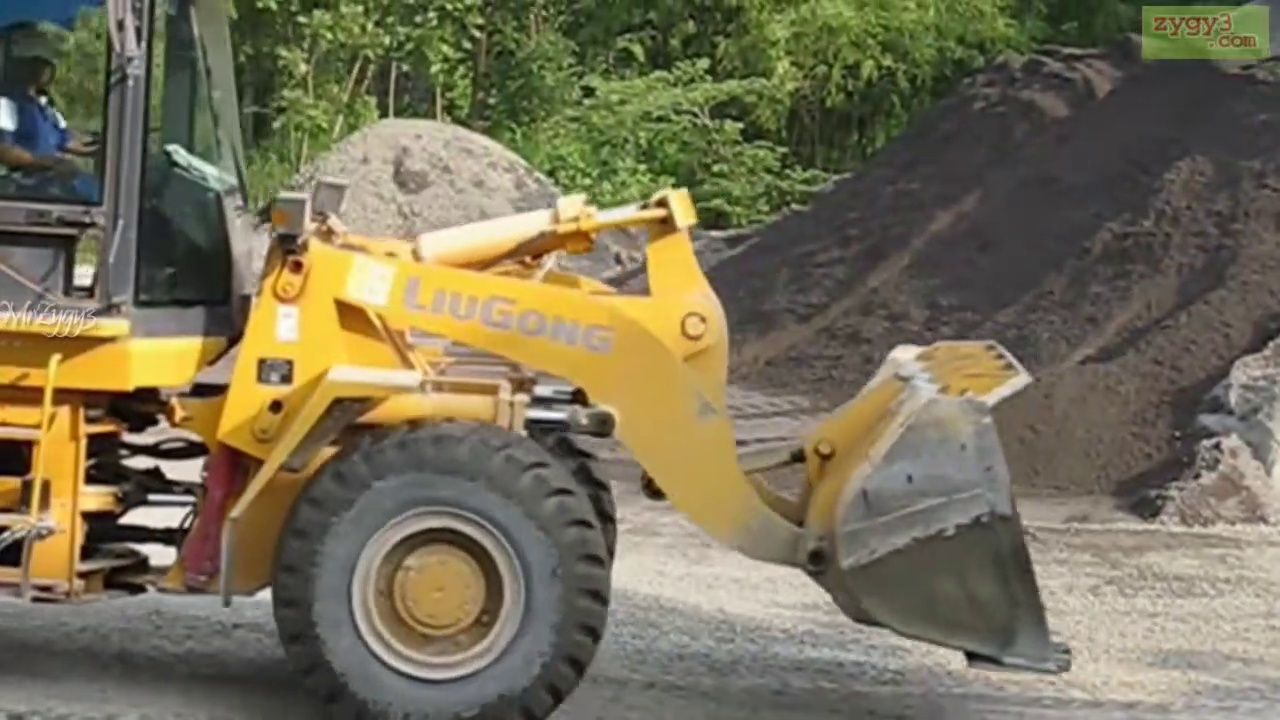wheel loader: (5, 6, 1072, 715)
